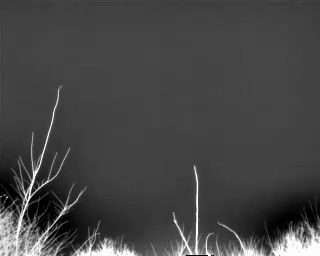BIRD: (216, 88, 222, 96)
